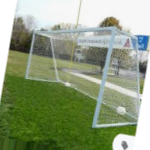goals: (24, 24, 139, 129)
